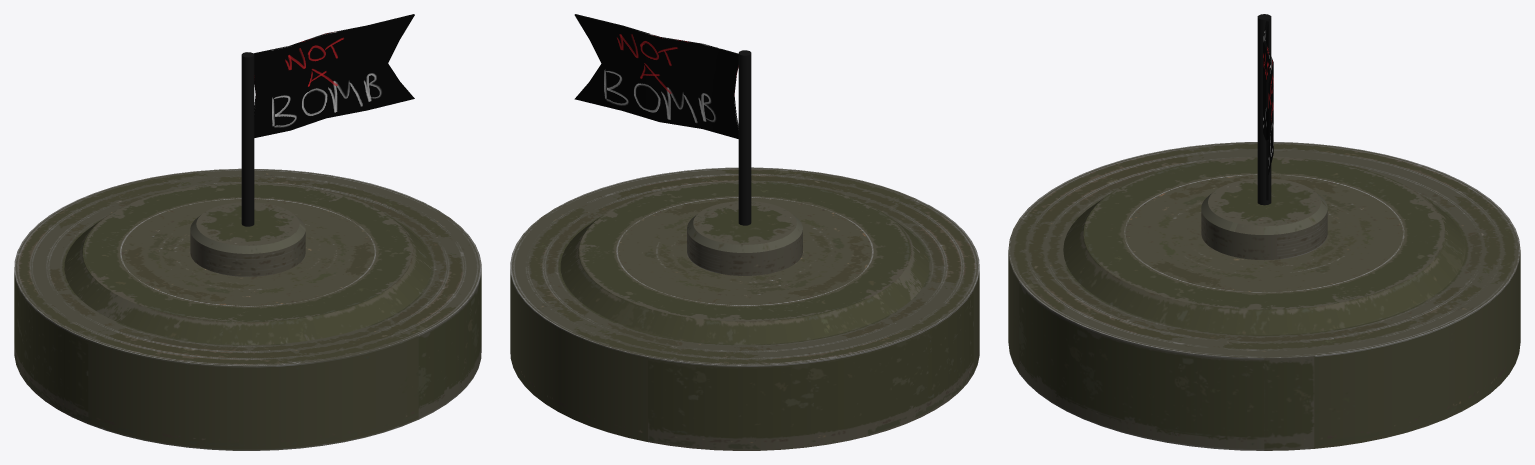
Rendered from landmine.fbx.
The picture shows the model from 3 angles, left to right: view 1: azimuth 30°, elevation 25°; view 2: azimuth 150°, elevation 25°; view 3: azimuth 270°, elevation 25°; orthographic projection. The views are drawn at different scales.
Parts seen in each view (by area): view 1: Landmine, Flag, Flagpost; view 2: Landmine, Flag, Flagpost; view 3: Landmine, Flagpost, Flag.
Boxes of the visible parts, left/top/right/bottom form: Landmine: left=14, top=168, right=481, bottom=450; Flag: left=253, top=14, right=414, bottom=137; Flagpost: left=241, top=52, right=254, bottom=226; Landmine: left=510, top=167, right=979, bottom=450; Flag: left=574, top=14, right=738, bottom=138; Flagpost: left=738, top=50, right=751, bottom=225; Landmine: left=1008, top=142, right=1520, bottom=450; Flagpost: left=1257, top=14, right=1271, bottom=205; Flag: left=1263, top=21, right=1273, bottom=200.
Bounding box in the file's own units: 200 × 140 × 200.
3 materials, 2 textured.
